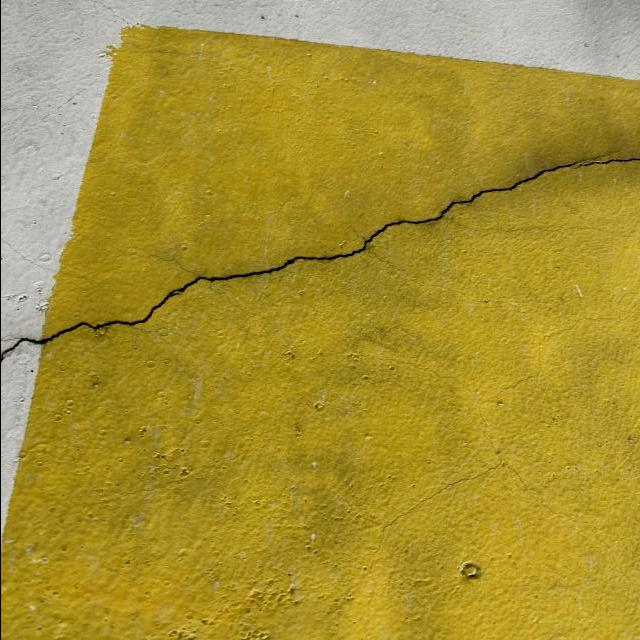SurfaceCrack: (1, 125, 640, 382)
